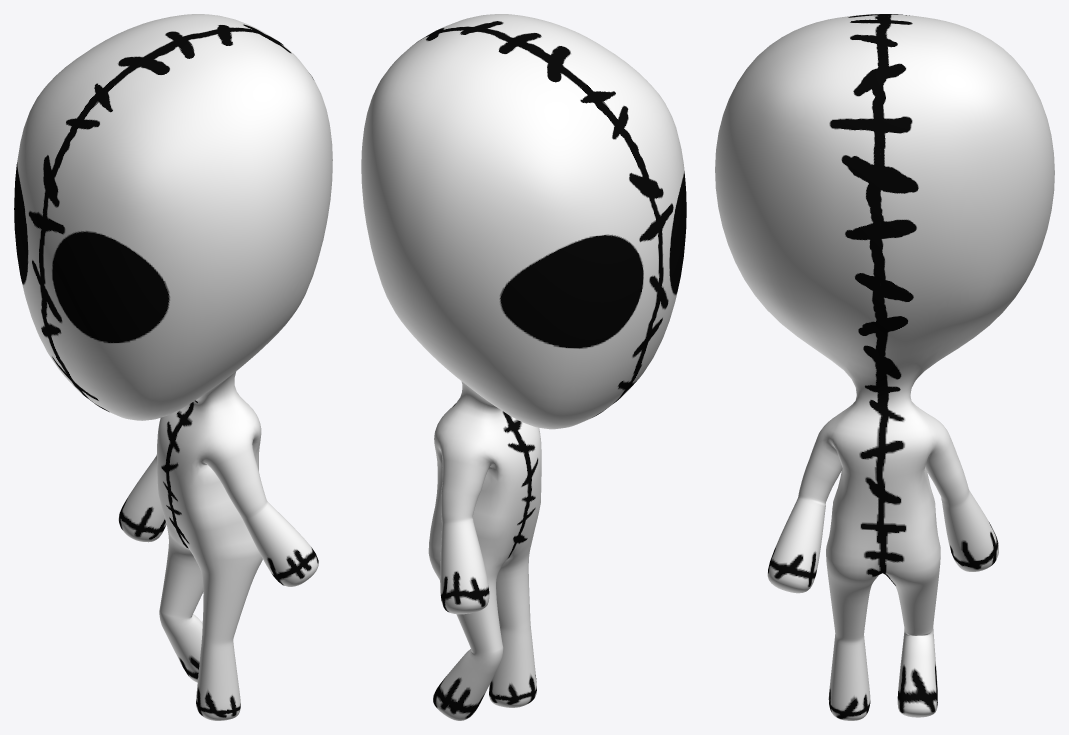
File: Muhammer.obj
3 views of the same model, side by side, from view 1: azimuth 30°, elevation 25°; view 2: azimuth 150°, elevation 25°; view 3: azimuth 270°, elevation 25° (orthographic). The views are drawn at different scales.
Parts seen in each view (by area): view 1: Cube; view 2: Cube; view 3: Cube.
Boxes of the visible parts, bbox=[...] form: Cube: bbox=[14, 14, 332, 720]; Cube: bbox=[361, 14, 686, 720]; Cube: bbox=[715, 14, 1054, 720].
Bounding box in the file's own units: 1.63 × 3.84 × 1.72.
1 material, 1 textured.
